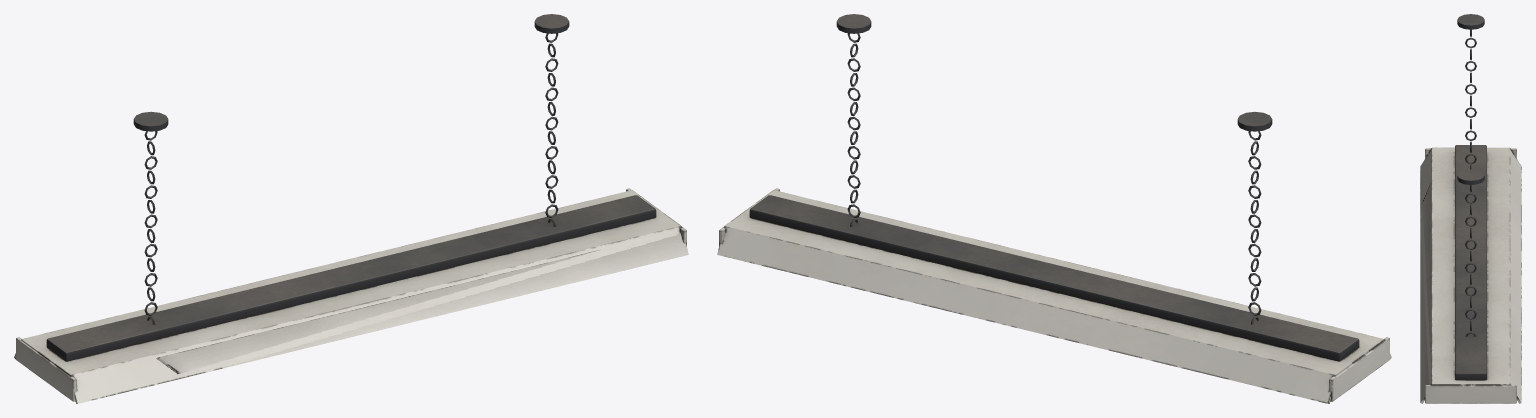
File: shop_light.glb
The picture shows the model from 3 angles, left to right: view 1: azimuth 30°, elevation 25°; view 2: azimuth 150°, elevation 25°; view 3: azimuth 270°, elevation 25°; orthographic projection. The views are drawn at different scales.
Parts seen in each view (by area): view 1: shop_light; view 2: shop_light; view 3: shop_light.
Part boxes in pixels (box(x1,y1,x2,y2)): shop_light: box(14, 14, 688, 403); shop_light: box(717, 14, 1391, 403); shop_light: box(1420, 14, 1521, 403).
Bounding box in the file's own units: 1.23 × 0.452 × 0.22.
1 material, 1 textured.
